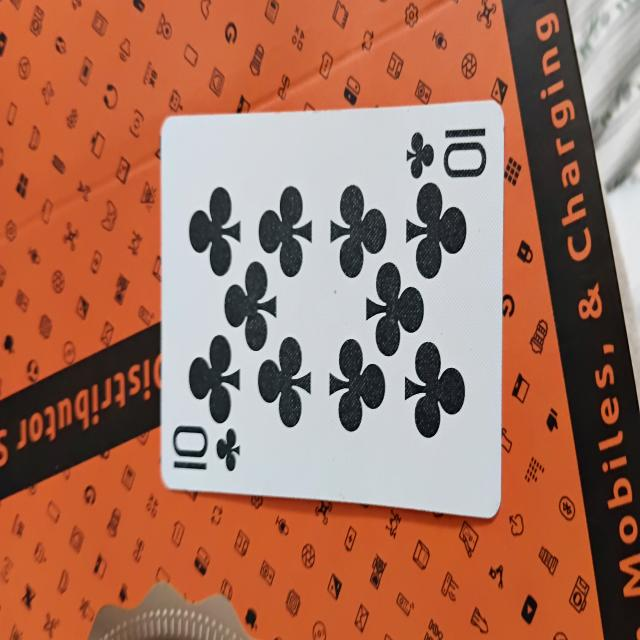10C: (160, 99, 502, 500)
